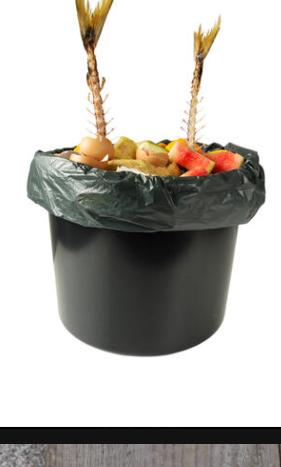organic: (42, 0, 250, 175), (64, 0, 121, 167)
